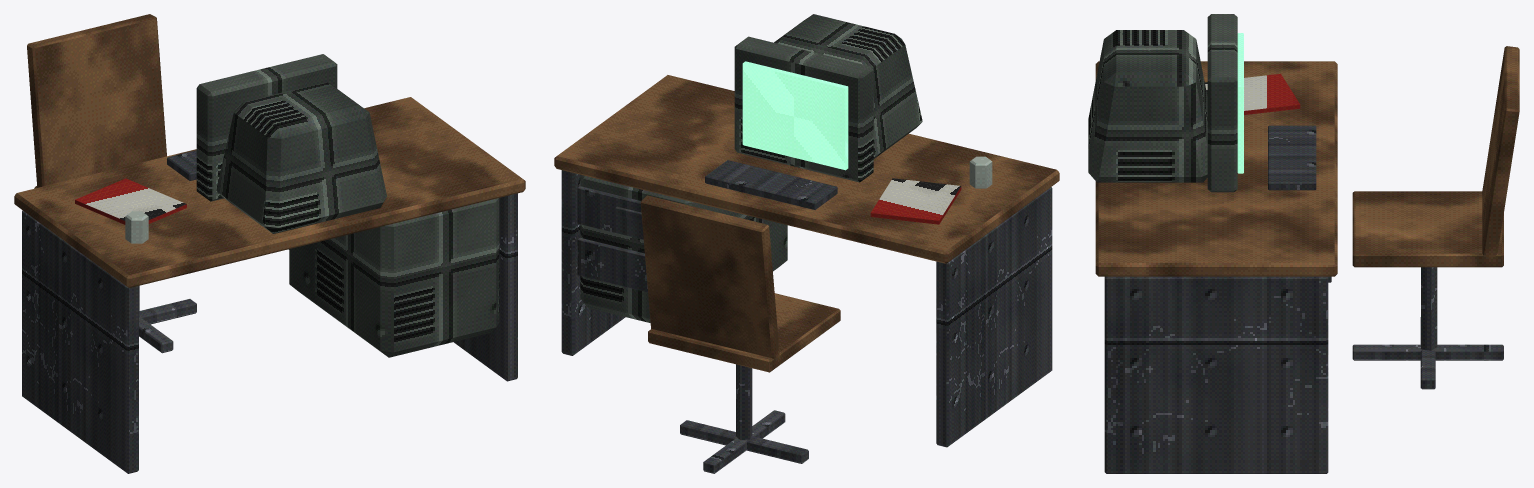
Rendered from prop_desk.glb.
The picture shows the model from 3 angles, left to right: view 1: azimuth 30°, elevation 25°; view 2: azimuth 150°, elevation 25°; view 3: azimuth 270°, elevation 25°; orthographic projection. The views are drawn at different scales.
Parts seen in each view (by area): view 1: prop_desk_mesh; view 2: prop_desk_mesh; view 3: prop_desk_mesh.
Part boxes in pixels (x1,y1,x2,y2): prop_desk_mesh: (14,14,525,473); prop_desk_mesh: (554,14,1059,473); prop_desk_mesh: (1088,14,1519,473).
Size of the model in its own units: 1.6 by 1.21 by 1.43.
6 materials, 6 textured.
